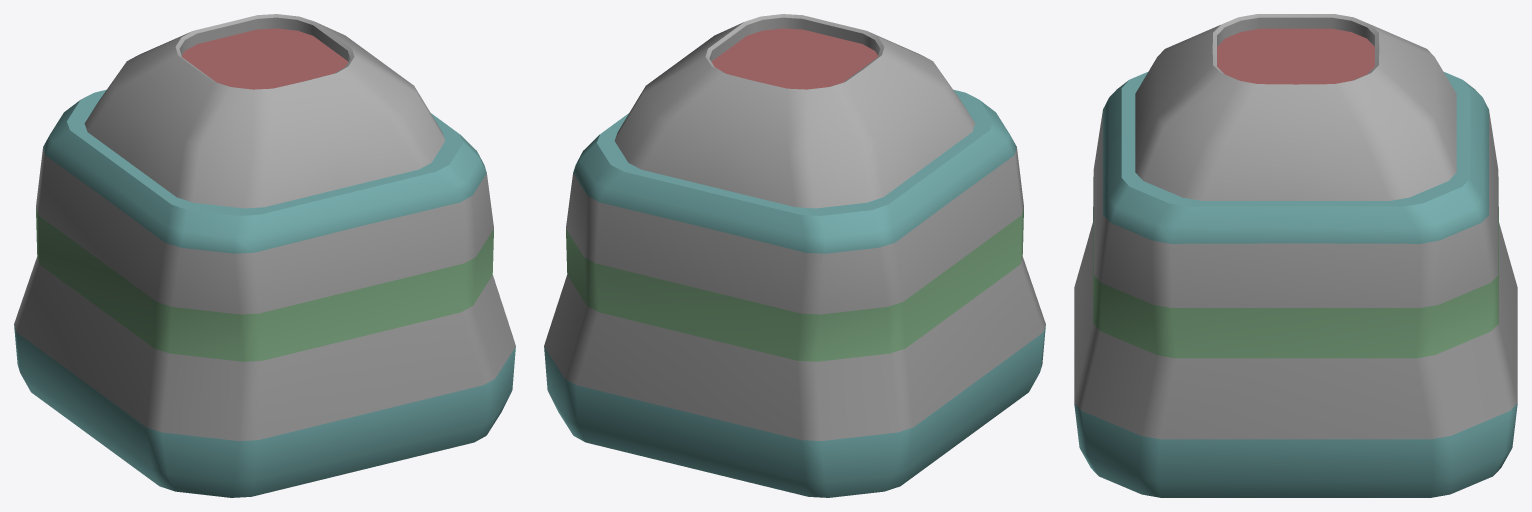
Rendered from Lowpoly.fbx.
3 renders of one model, left to right at view 1: azimuth 30°, elevation 25°; view 2: azimuth 150°, elevation 25°; view 3: azimuth 270°, elevation 25°, orthographic. The views are drawn at different scales.
Parts seen in each view (by area): view 1: pCube1; view 2: pCube1; view 3: pCube1.
Boxes of the visible parts, <box> form: pCube1: <box>14,14,515,497</box>; pCube1: <box>544,14,1045,497</box>; pCube1: <box>1074,14,1517,497</box>.
Bounding box in the file's own units: 9.26 × 8.63 × 9.26.
